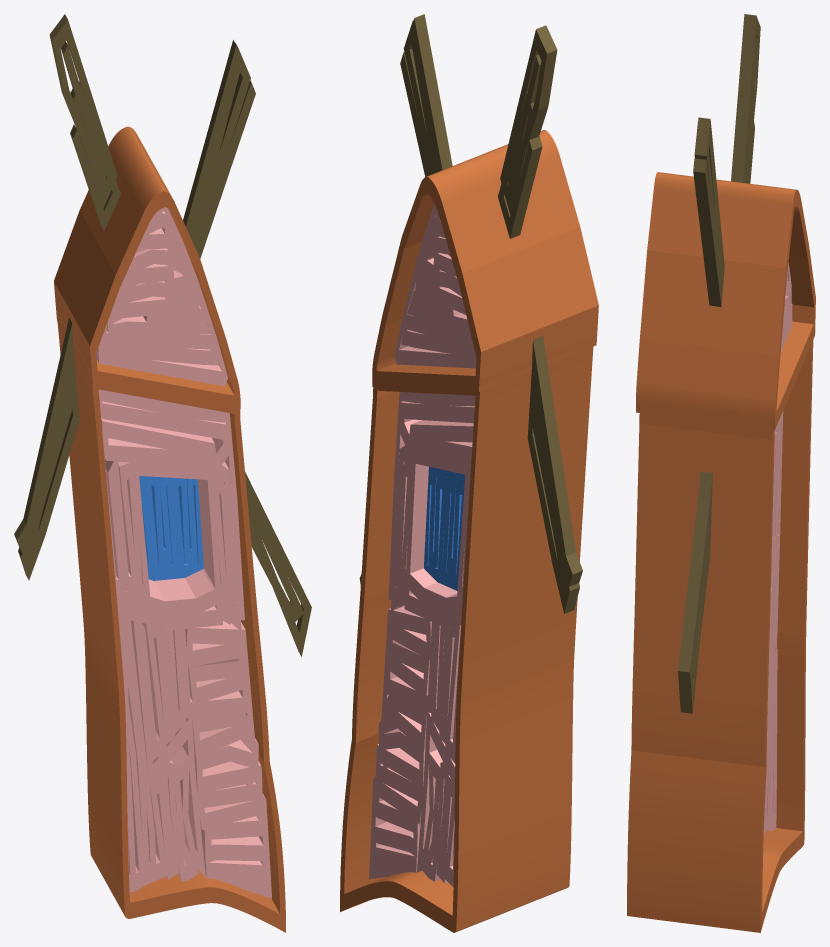
The picture shows the model from 3 angles, left to right: view 1: azimuth 30°, elevation 25°; view 2: azimuth 150°, elevation 25°; view 3: azimuth 270°, elevation 25°; orthographic projection. The views are drawn at different scales.
Visible parts, largest first — view 1: 17; view 2: 17; view 3: 17.
Part boxes in pixels (bbox=[...]): 17: bbox=[14, 14, 311, 932]; 17: bbox=[340, 14, 598, 932]; 17: bbox=[627, 14, 815, 932].
Size of the model in its own units: 0.3673 by 1.25 by 0.2564.
